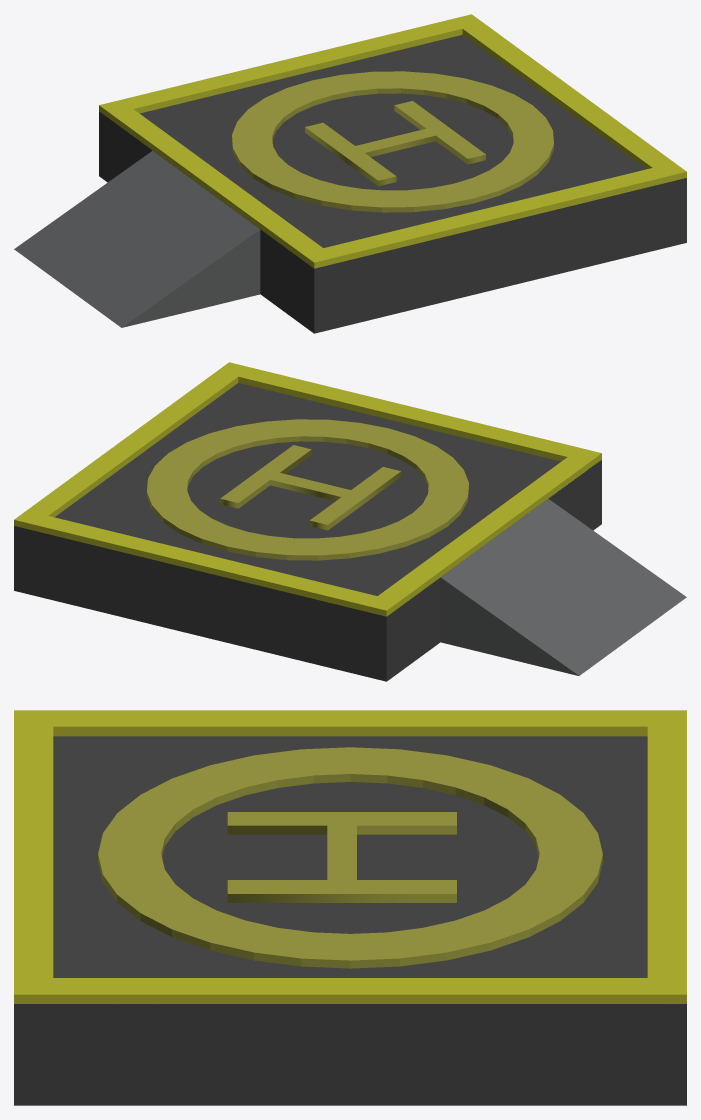
Rendered from Helipad.glb.
3 renders of one model, top to bottom at view 1: azimuth 30°, elevation 25°; view 2: azimuth 150°, elevation 25°; view 3: azimuth 270°, elevation 25°, orthographic. The views are drawn at different scales.
Visible parts, largest first — view 1: Cube, H; view 2: Cube, H; view 3: Cube, H.
Part boxes in pixels (x1,y1,x2,y2): Cube: (14, 14, 686, 333); H: (305, 101, 485, 186); Cube: (14, 362, 686, 681); H: (220, 445, 401, 530); Cube: (14, 710, 686, 1105); H: (227, 812, 456, 902).
Bounding box in the file's own units: 8.23 × 1.09 × 6.
